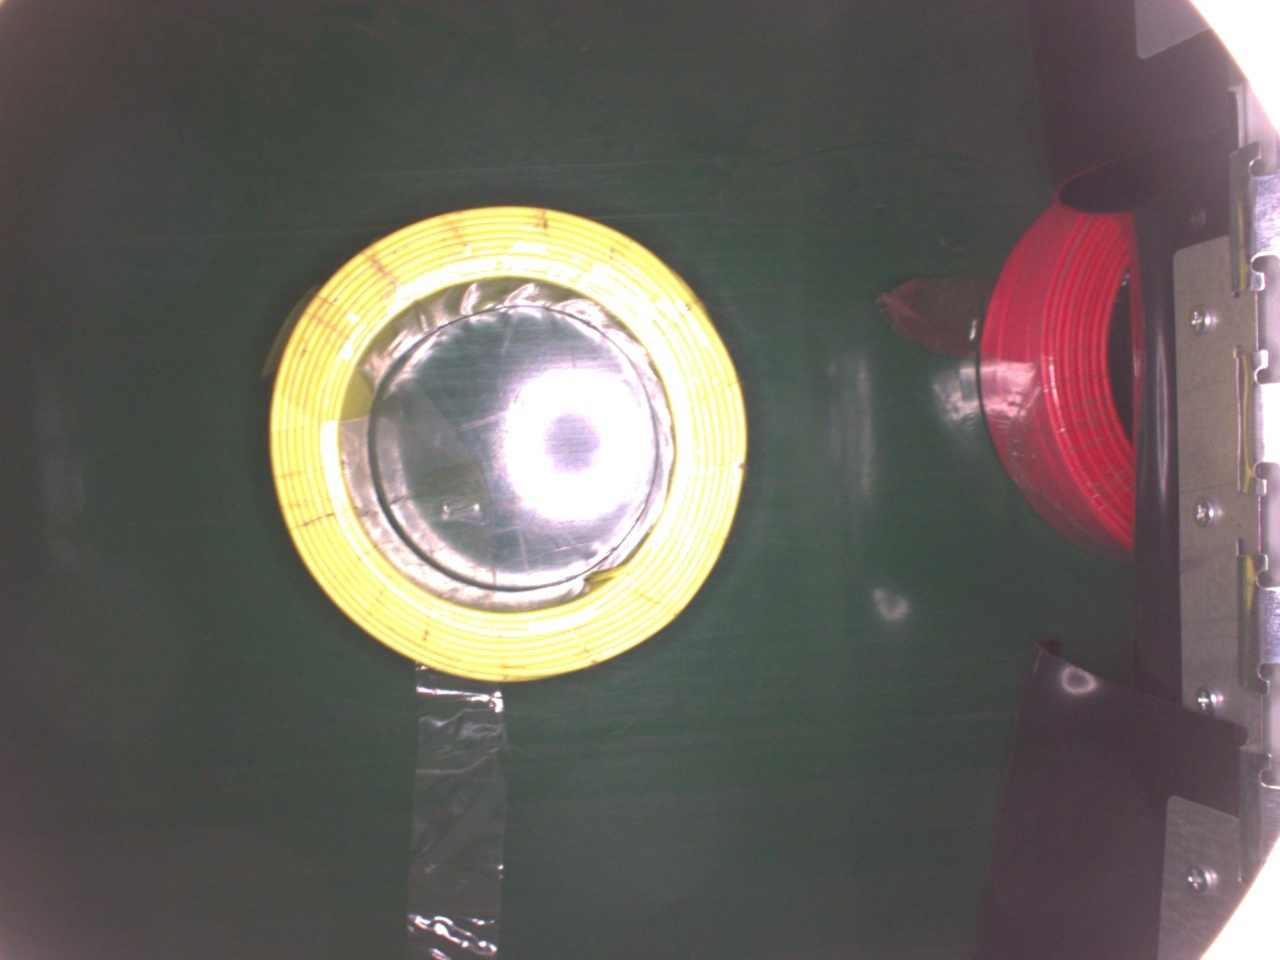red: (977, 199, 1144, 563)
yellow: (272, 203, 763, 694)
